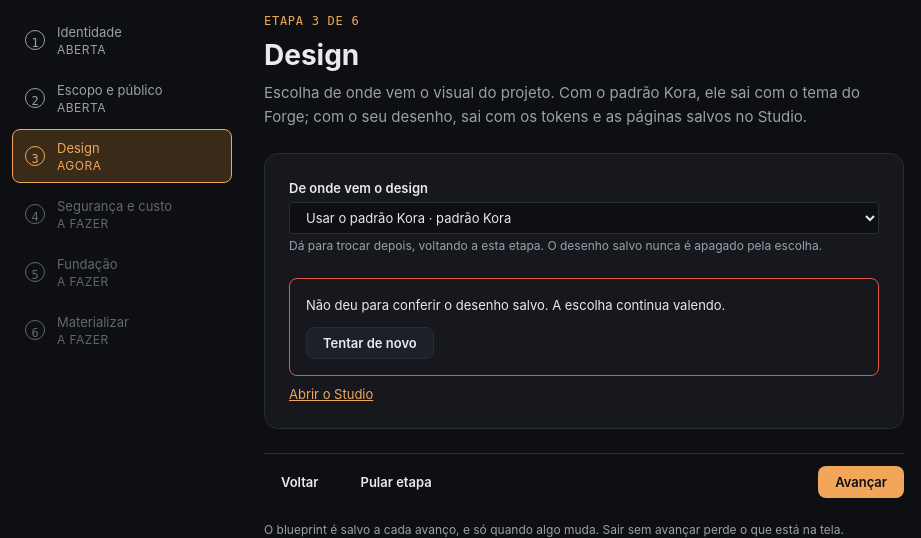
Test: etapa Design › erro ao consultar o desenho aparece, tenta de novo, e não impede avançar
(page scrolled)
Expected: the text "Não deu para conferir o desenho salvo. A escolha continua valendo." is shown, [306,295,725,315]
What coordinates should you click on to do the following:
click the button "Tentar de novo"
I would click on:
 (370, 343)
Its box is [306,327,434,359].
(page scrolled)
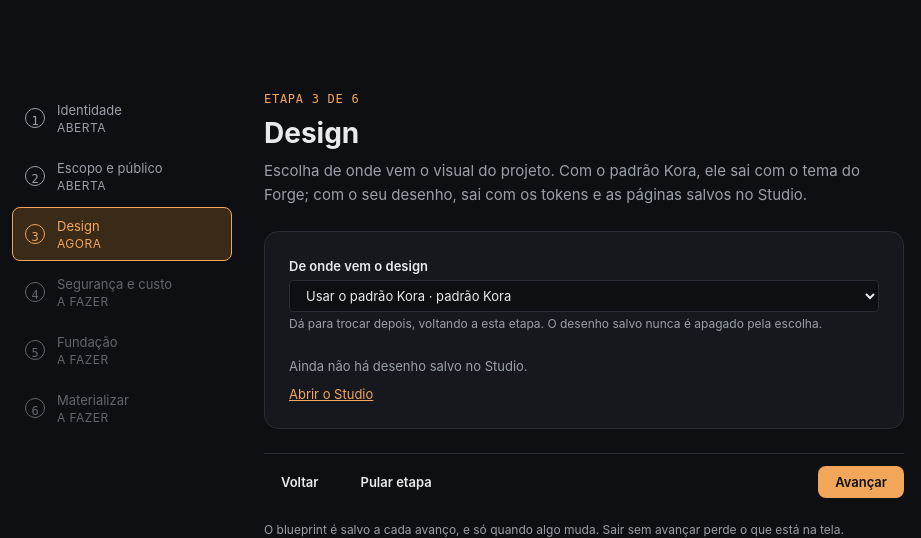
Result: the text "Ainda não há desenho salvo no Studio." is shown at [289,358,528,374]
